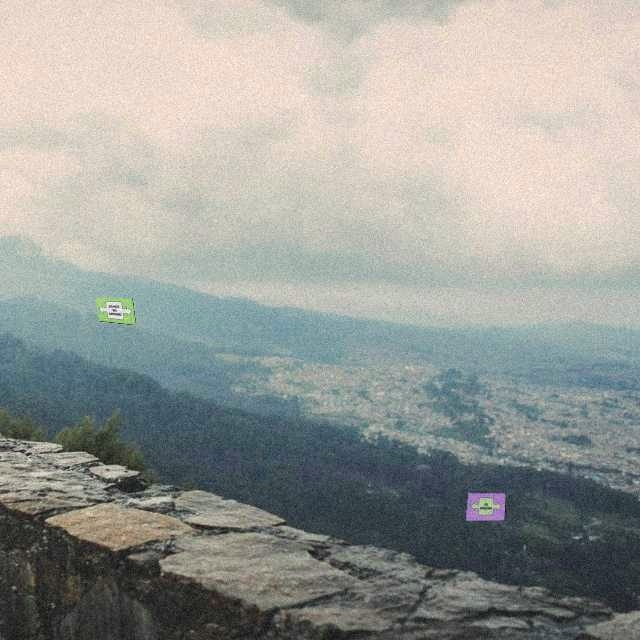DO_NOT_GO_AROUND: (98, 301, 134, 321)
GO_AROUND: (470, 497, 502, 515)
